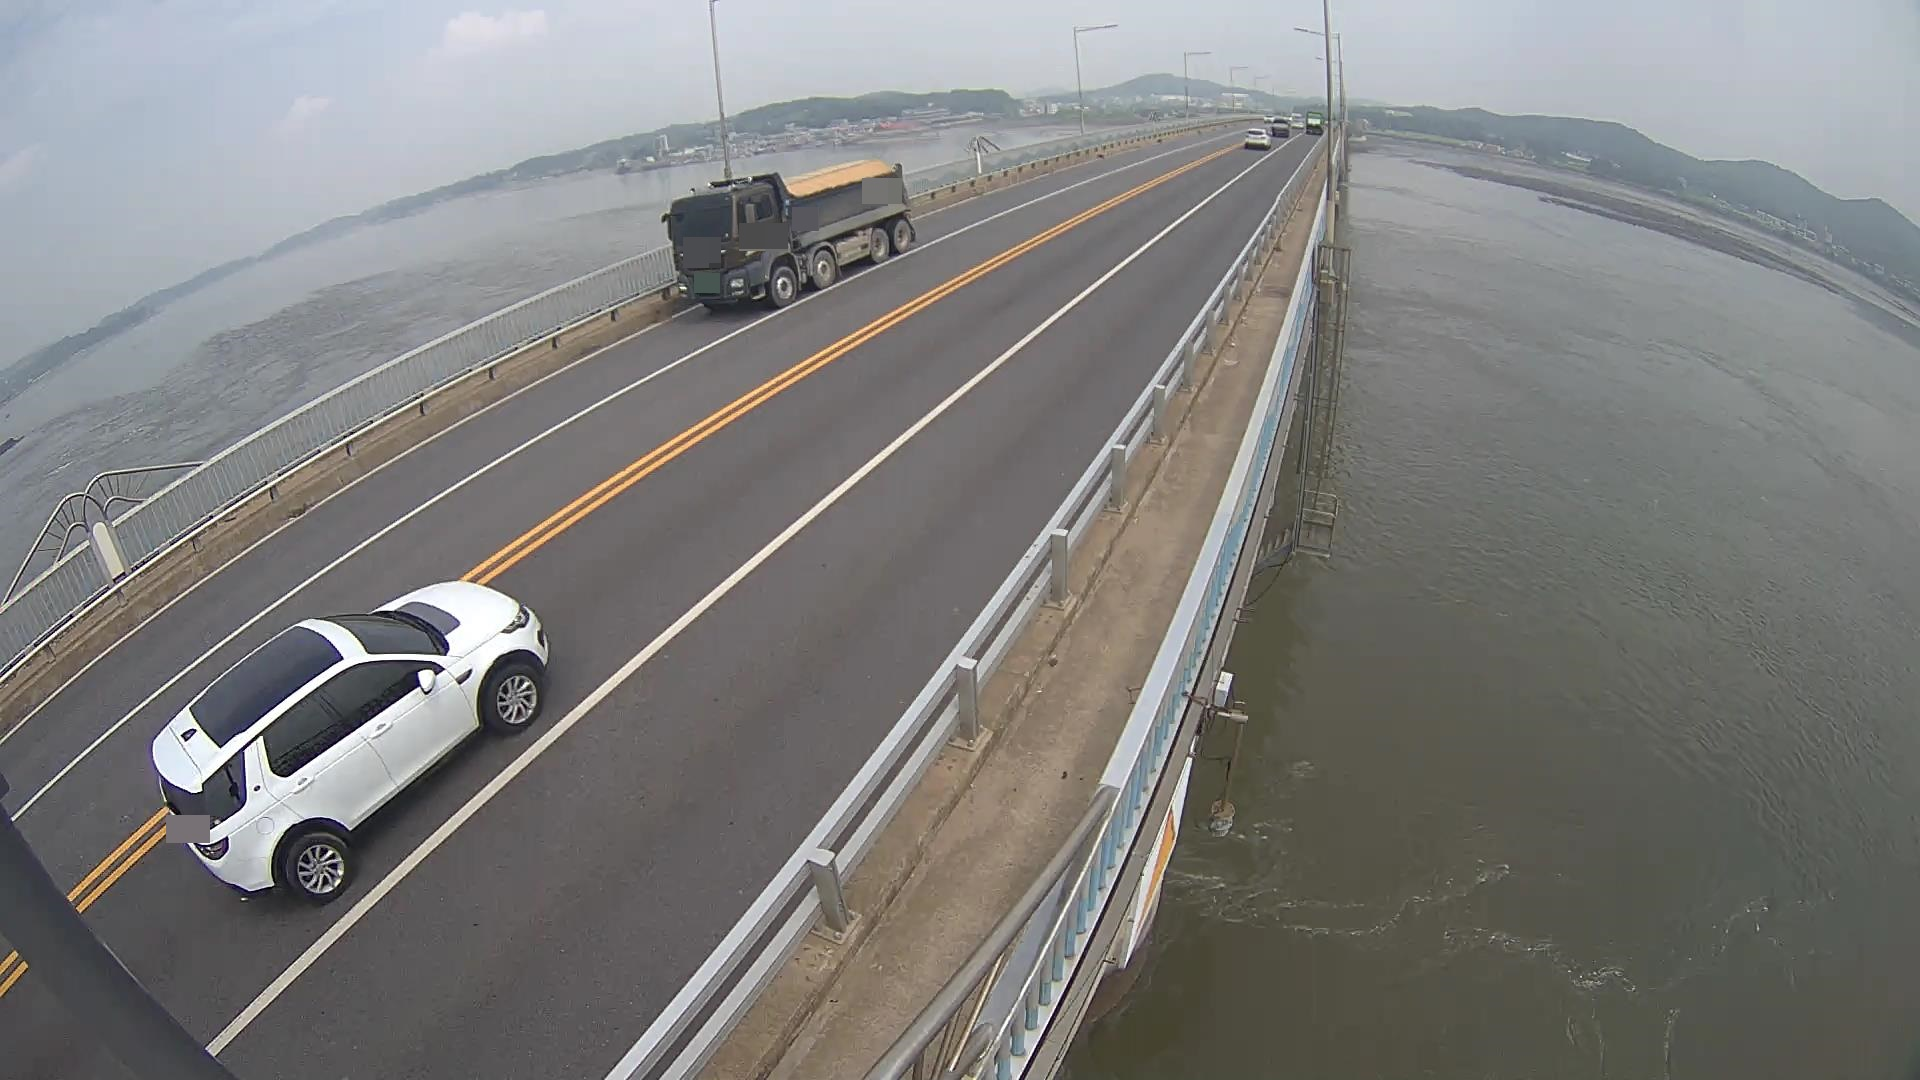정상차량: (661, 159, 916, 307)
